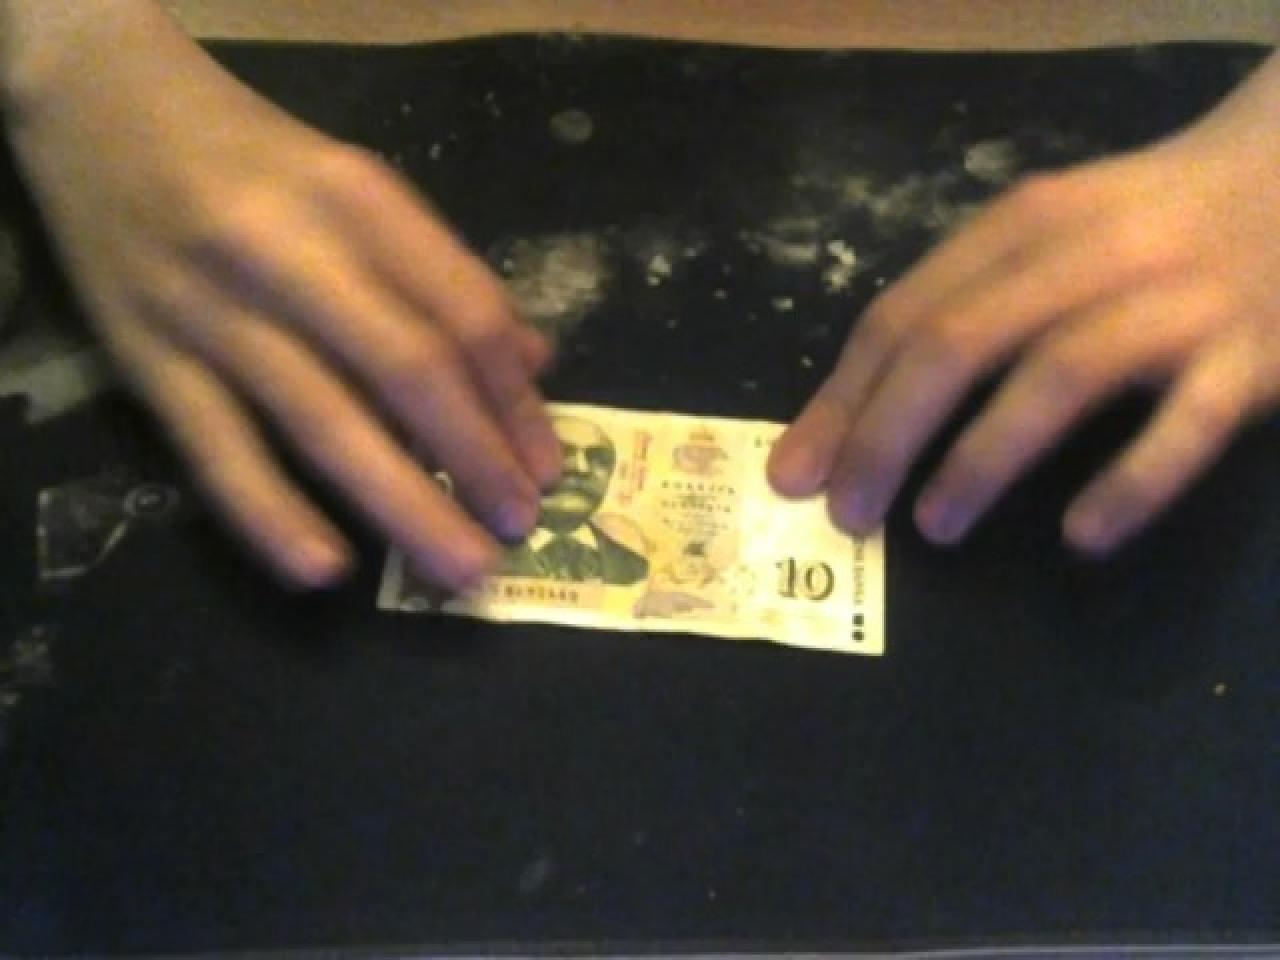10leva: (382, 405, 884, 662)
